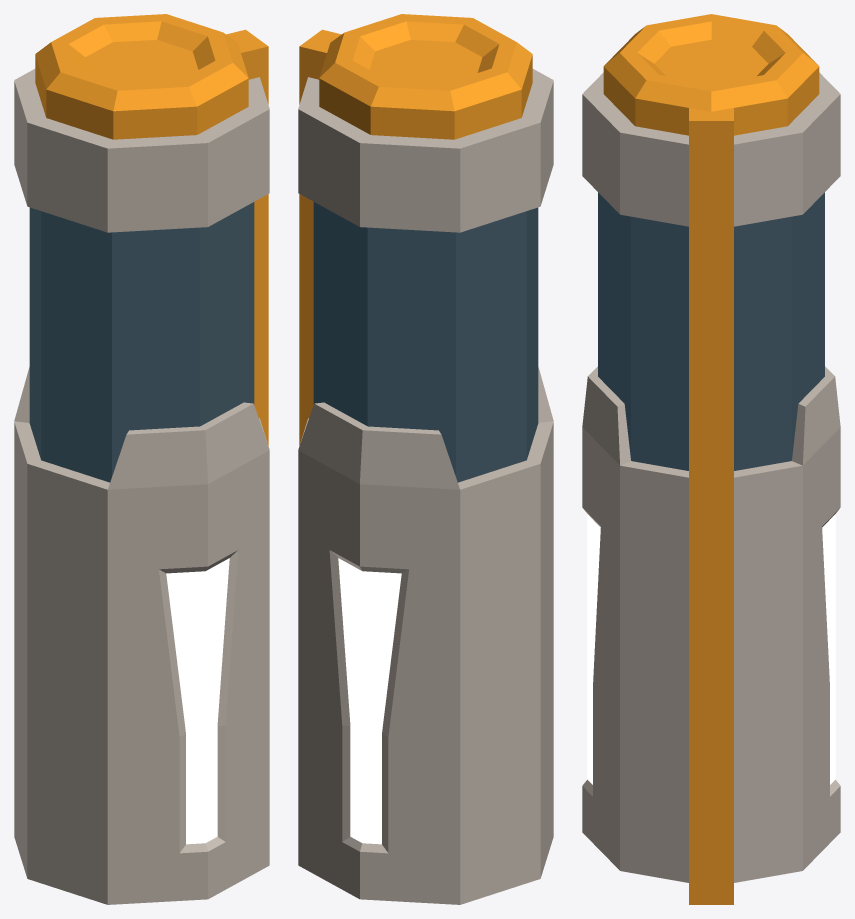
The model's file is SM__Flask_01.glb.
The picture shows the model from 3 angles, left to right: view 1: azimuth 30°, elevation 25°; view 2: azimuth 150°, elevation 25°; view 3: azimuth 270°, elevation 25°; orthographic projection. The views are drawn at different scales.
Visible parts, largest first — view 1: SM__Flask_01; view 2: SM__Flask_01; view 3: SM__Flask_01.
Part boxes in pixels (x1,y1,x2,y2): SM__Flask_01: (14,14,269,904); SM__Flask_01: (298,14,553,904); SM__Flask_01: (582,14,840,904).
Size of the model in its own units: 0.0793 by 0.2693 by 0.0791.
3 materials, 1 textured.
